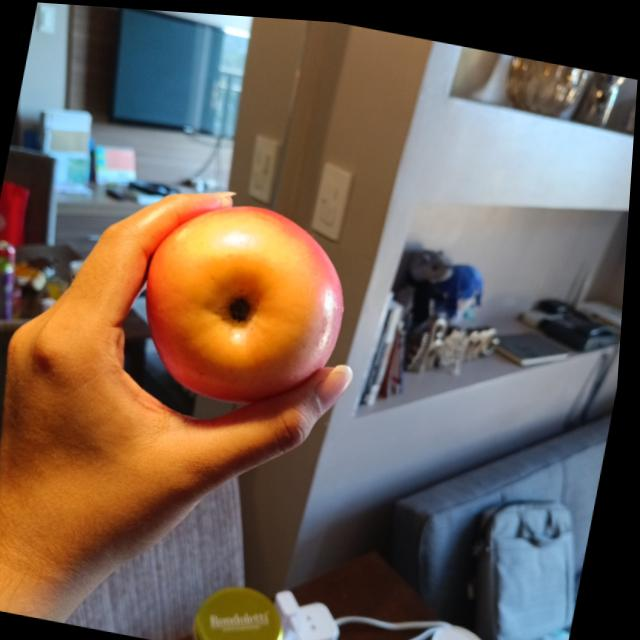apple: (132, 186, 365, 418)
